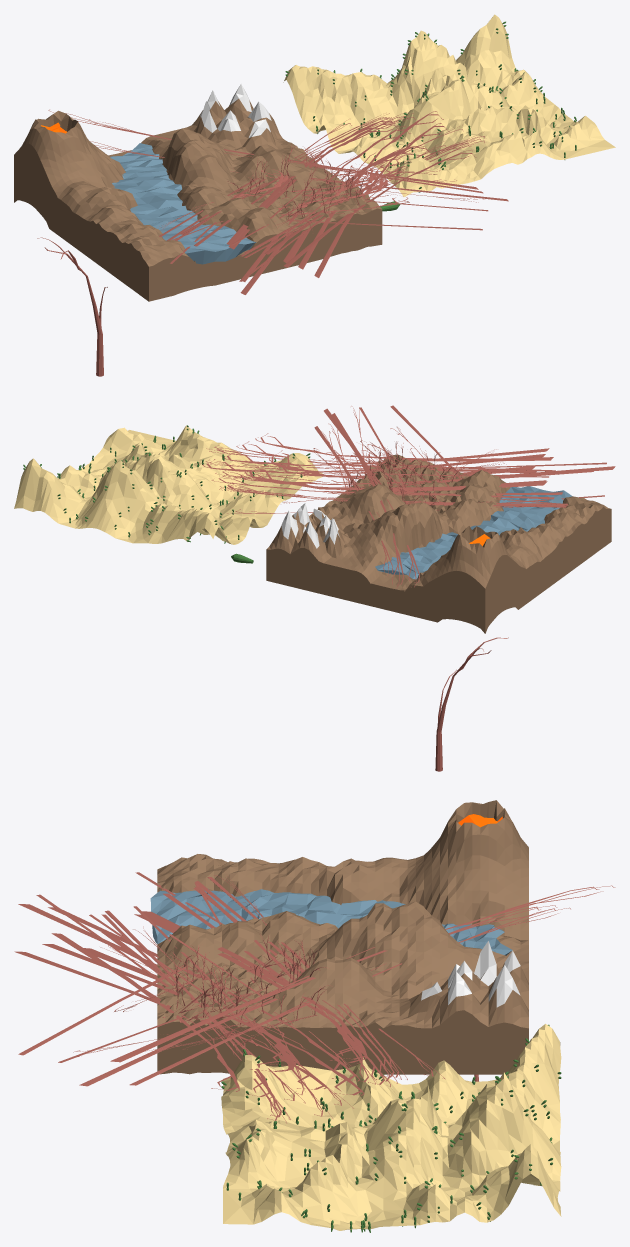
3 renders of one model, top to bottom at view 1: azimuth 30°, elevation 25°; view 2: azimuth 150°, elevation 25°; view 3: azimuth 270°, elevation 25°, orthographic. The views are drawn at different scales.
Visible parts, largest first — view 1: Volcaono, Desert, Volcaono.001, Cylinder.004, Volcaono.001|Cylinder.004|Dupli|11.0, Volcaono.001|Cylinder.004|Dupli|21.0, Volcaono.001|Cylinder.004|Dupli|16.0, Volcaono.001|Cylinder.004|Dupli|47.0, Volcaono.001|Cylinder.004|Dupli|38.0, Volcaono.001|Cylinder.004|Dupli|40.0, Volcaono.001|Cylinder.004|Dupli|30.0, Volcaono.001|Cylinder.004|Dupli|37.0 (+1 smaller); view 2: Volcaono, Desert, Volcaono.001, Volcaono.001|Cylinder.004|Dupli|38.0, Volcaono.001|Cylinder.004|Dupli|16.0, Cylinder.004, Volcaono.001|Cylinder.004|Dupli|21.0, Volcaono.001|Cylinder.004|Dupli|47.0, Volcaono.001|Cylinder.004|Dupli|11.0, Volcaono.001|Cylinder.004|Dupli|30.0, Volcaono.001|Cylinder.004|Dupli|8.0, Volcaono.001|Cylinder.004|Dupli|18.0 (+2 smaller); view 3: Volcaono, Desert, Volcaono.001, Volcaono.001|Cylinder.004|Dupli|11.0, Volcaono.001|Cylinder.004|Dupli|40.0, Volcaono.001|Cylinder.004|Dupli|15.0, Volcaono.001|Cylinder.004|Dupli|16.0, Volcaono.001|Cylinder.004|Dupli|21.0, Volcaono.001|Cylinder.004|Dupli|38.0, Volcaono.001|Cylinder.004|Dupli|47.0, Volcaono.001|Cylinder.004|Dupli|30.0, Volcaono.001|Cylinder.004|Dupli|37.0 (+9 smaller).
Boxes of the visible parts, x1,y1,x2,y2 form: Volcaono: (14,84,382,301); Desert: (283,14,615,196); Volcaono.001: (236,155,378,230); Cylinder.004: (37,237,107,376); Volcaono.001|Cylinder.004|Dupli|11.0: (48,109,478,189); Volcaono.001|Cylinder.004|Dupli|21.0: (298,111,443,269); Volcaono.001|Cylinder.004|Dupli|16.0: (283,150,476,267); Volcaono.001|Cylinder.004|Dupli|47.0: (314,123,449,277); Volcaono.001|Cylinder.004|Dupli|38.0: (226,118,398,246); Volcaono.001|Cylinder.004|Dupli|40.0: (90,141,508,201); Volcaono.001|Cylinder.004|Dupli|30.0: (241,126,410,281); Volcaono.001|Cylinder.004|Dupli|37.0: (228,121,400,249); Volcaono: (266,454,611,633); Desert: (14,425,322,544); Volcaono.001: (341,455,469,506); Volcaono.001|Cylinder.004|Dupli|38.0: (245,465,546,493); Volcaono.001|Cylinder.004|Dupli|16.0: (255,433,553,461); Cylinder.004: (435,637,508,771); Volcaono.001|Cylinder.004|Dupli|21.0: (202,454,545,476); Volcaono.001|Cylinder.004|Dupli|47.0: (224,448,549,468); Volcaono.001|Cylinder.004|Dupli|11.0: (330,413,403,588); Volcaono.001|Cylinder.004|Dupli|30.0: (234,469,595,487); Volcaono.001|Cylinder.004|Dupli|8.0: (211,475,562,495); Volcaono.001|Cylinder.004|Dupli|18.0: (206,445,555,471); Volcaono: (150,800,528,1074); Desert: (221,1024,561,1230); Volcaono.001: (157,954,318,1027); Volcaono.001|Cylinder.004|Dupli|11.0: (110,885,615,1062); Volcaono.001|Cylinder.004|Dupli|40.0: (79,905,557,1086); Volcaono.001|Cylinder.004|Dupli|15.0: (129,907,570,1085); Volcaono.001|Cylinder.004|Dupli|16.0: (51,933,239,1091); Volcaono.001|Cylinder.004|Dupli|21.0: (42,944,364,1095); Volcaono.001|Cylinder.004|Dupli|38.0: (142,911,367,1060); Volcaono.001|Cylinder.004|Dupli|47.0: (14,951,326,1089); Volcaono.001|Cylinder.004|Dupli|30.0: (48,907,359,1081); Volcaono.001|Cylinder.004|Dupli|37.0: (134,914,363,1063).
Size of the model in its own units: 3341 by 1719 by 2567.
